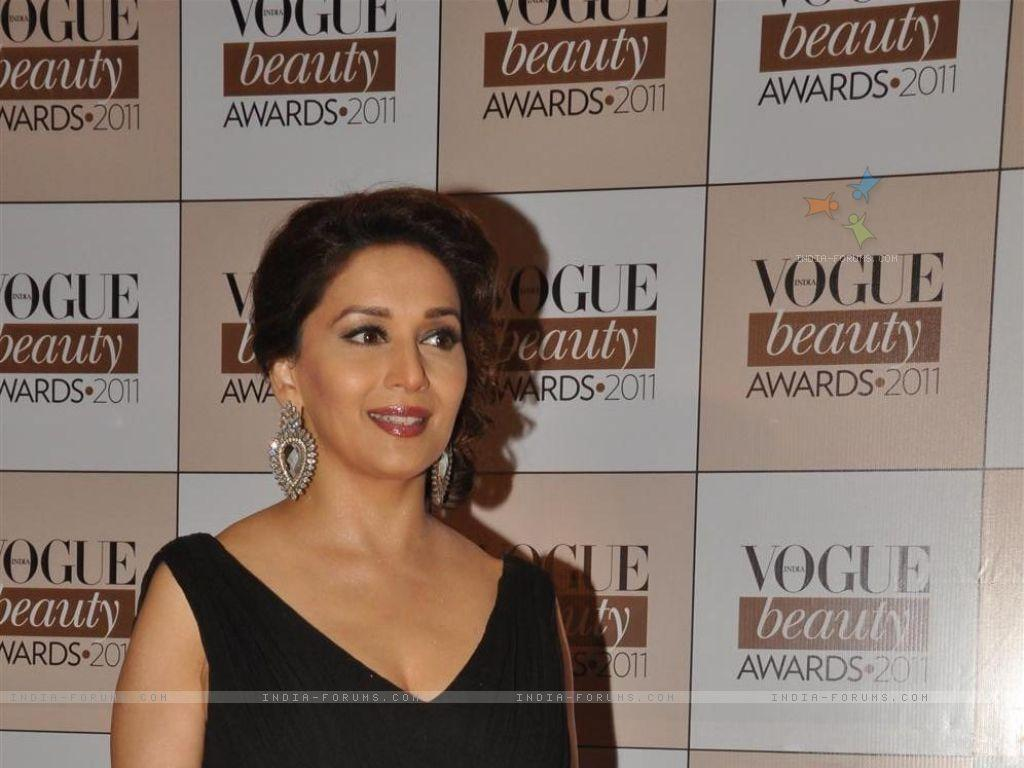face: (304, 240, 470, 474)
